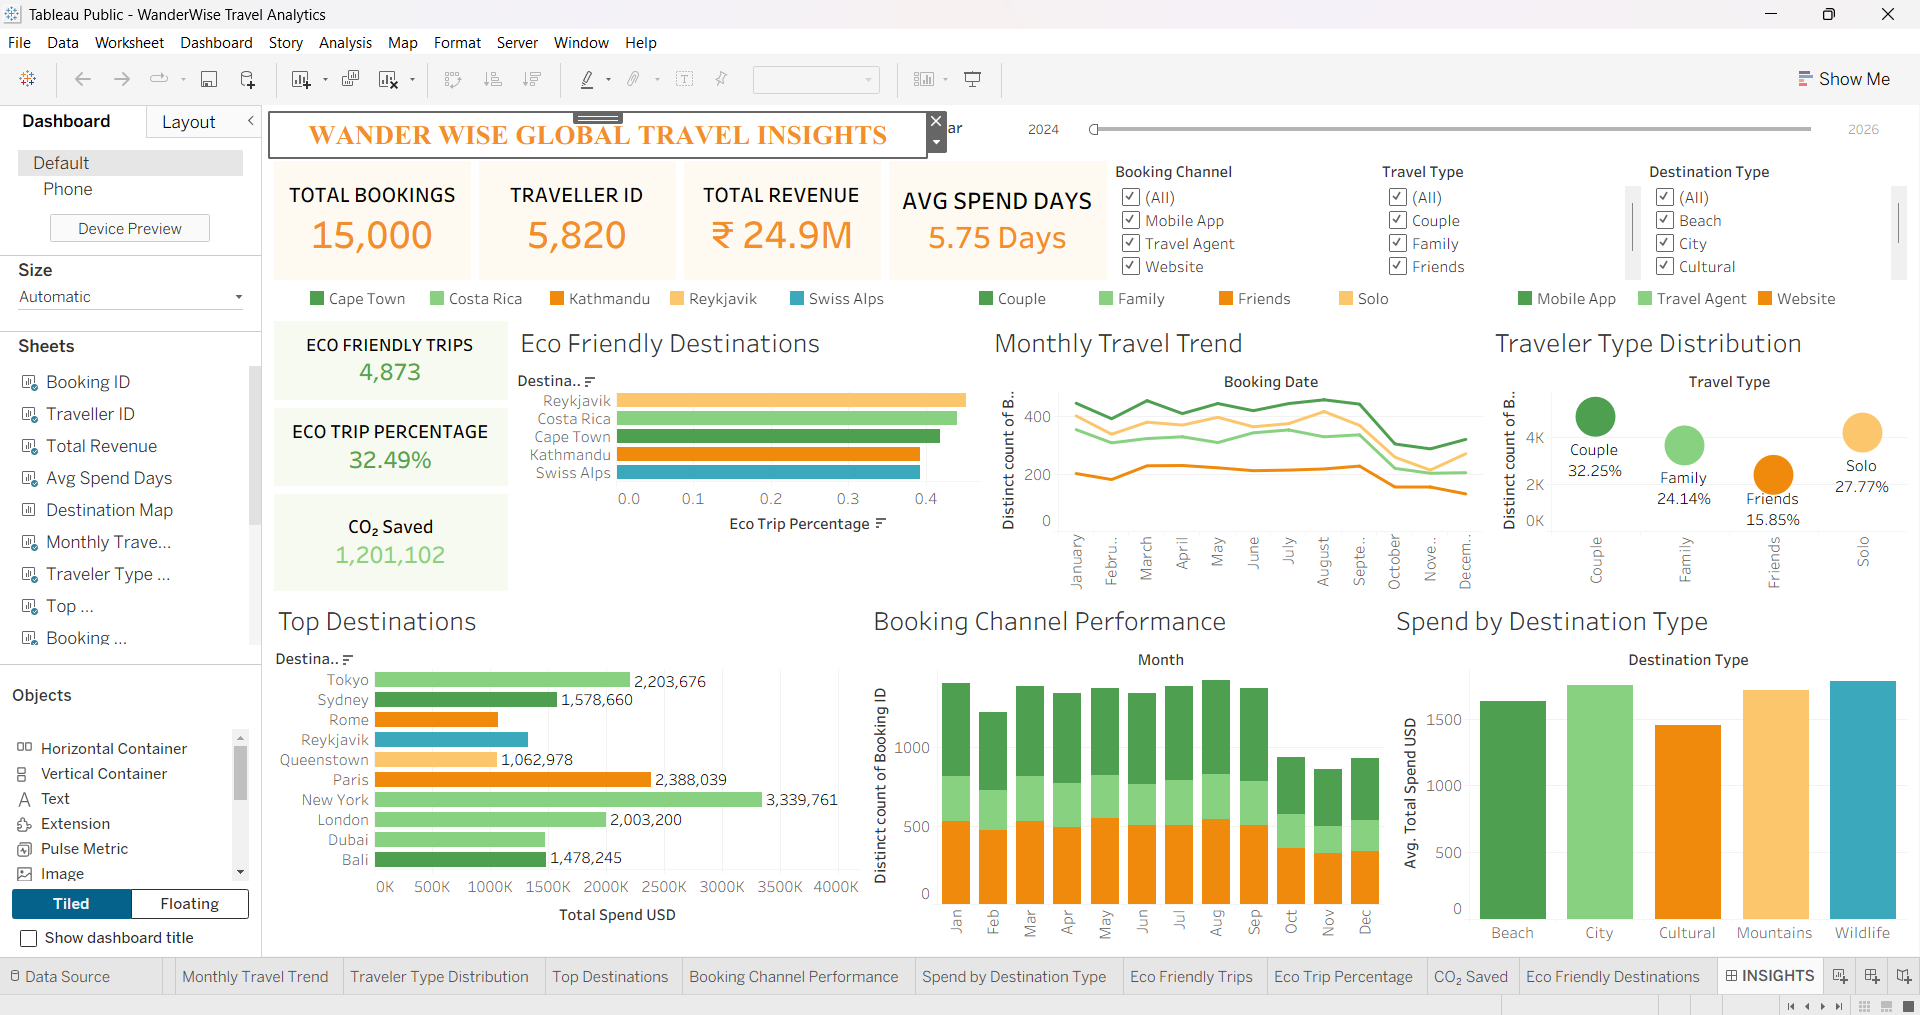

Layout of this report page (visuals, bound fields, positions):
{"tool":"tableau","page":{"name":"INSIGHTS","canvas":[1000,1000],"units":"permille","ordinal":0},"visuals":[{"type":"text","box":[4.9,9.4,395.9,51.7]},{"type":"filter","title":"Avg Spend Days","param":"[federated.04pvo371luxlef1gmajti12u7aaq].[none:Year:qk]","box":[400.9,9.4,594.2,51.7]},{"type":"worksheet","title":"Booking ID","mark":"Text","box":[4.9,61.1,123.7,149.2]},{"type":"worksheet","title":"Traveller ID","mark":"Text","box":[128.6,61.1,123.8,149.2]},{"type":"worksheet","title":"Total Revenue","mark":"Text","box":[252.4,61.1,123.8,149.2]},{"type":"worksheet","title":"Avg Spend Days","mark":"Text","box":[376.2,61.1,136.1,149.2]},{"type":"filter","title":"Avg Spend Days","param":"[federated.04pvo371luxlef1gmajti12u7aaq].[none:Booking_Channel:nk]","box":[512.3,61.1,161.3,149.2]},{"type":"filter","title":"Avg Spend Days","param":"[federated.04pvo371luxlef1gmajti12u7aaq].[none:Travel_Type:nk]","box":[673.6,61.1,160.7,149.2]},{"type":"filter","title":"Avg Spend Days","param":"[federated.04pvo371luxlef1gmajti12u7aaq].[none:Destination_Type:nk]","box":[834.4,61.1,160.7,149.2]},{"type":"legend","title":"Eco Friendly Destinations","param":"[federated.04pvo371luxlef1gmajti12u7aaq].[none:Destination:nk]","box":[24.6,210.3,403.9,38.8]},{"type":"legend","title":"Monthly Travel Trend","param":"[federated.04pvo371luxlef1gmajti12u7aaq].[none:Travel_Type:nk]","box":[428.6,210.3,325.1,38.8]},{"type":"legend","title":"Booking Channel Performance","param":"[federated.04pvo371luxlef1gmajti12u7aaq].[none:Booking_Channel:nk]","box":[753.7,210.3,241.4,38.8]},{"type":"worksheet","title":"Eco Friendly Trips","mark":"Text","box":[4.9,249.1,145.9,102.2]},{"type":"worksheet","title":"Eco Friendly Destinations","mark":"Automatic","rows":["Destination"],"cols":["Calculation_0961026413121537"],"box":[150.9,249.1,286.3,326.7]},{"type":"worksheet","title":"Monthly Travel Trend","mark":"Automatic","rows":["Booking_ID"],"cols":["Booking_Date"],"box":[437.2,249.1,302.3,326.7]},{"type":"worksheet","title":"Traveler Type Distribution","mark":"Pie","rows":["Booking_ID"],"cols":["Travel_Type"],"box":[739.5,249.1,255.5,326.7]},{"type":"worksheet","title":"Eco Trip Percentage","mark":"Text","box":[4.9,351.4,145.9,101.6]},{"type":"worksheet","title":"CO₂ Saved","mark":"Text","box":[4.9,453,145.9,122.8]},{"type":"worksheet","title":"Top Destinations","mark":"Automatic","rows":["Destination"],"cols":["Total_Spend_USD"],"box":[4.9,575.8,358.9,414.8]},{"type":"worksheet","title":"Booking Channel Performance","mark":"Bar","rows":["Booking_ID"],"cols":["Month"],"box":[363.8,575.8,315.6,414.8]},{"type":"worksheet","title":"Spend by Destination Type","mark":"Automatic","rows":["Total_Spend_USD"],"cols":["Destination_Type"],"box":[679.4,575.8,315.7,414.8]}]}

Visuals, with their boxes on the dashboard's canvas, which has no fixed pixel size, in thousandths of its width and height (x1, y1, x2, y2). These are canvas units, not pixel positions in the 1920x1015 screenshot, which may show the page scaled, cropped or inside an application window:
text: [x1=5, y1=9, x2=401, y2=61]
"Avg Spend Days" filter: [x1=401, y1=9, x2=995, y2=61]
"Booking ID" worksheet (Text marks): [x1=5, y1=61, x2=129, y2=210]
"Traveller ID" worksheet (Text marks): [x1=129, y1=61, x2=252, y2=210]
"Total Revenue" worksheet (Text marks): [x1=252, y1=61, x2=376, y2=210]
"Avg Spend Days" worksheet (Text marks): [x1=376, y1=61, x2=512, y2=210]
"Avg Spend Days" filter: [x1=512, y1=61, x2=674, y2=210]
"Avg Spend Days" filter: [x1=674, y1=61, x2=834, y2=210]
"Avg Spend Days" filter: [x1=834, y1=61, x2=995, y2=210]
"Eco Friendly Destinations" legend: [x1=25, y1=210, x2=428, y2=249]
"Monthly Travel Trend" legend: [x1=429, y1=210, x2=754, y2=249]
"Booking Channel Performance" legend: [x1=754, y1=210, x2=995, y2=249]
"Eco Friendly Trips" worksheet (Text marks): [x1=5, y1=249, x2=151, y2=351]
"Eco Friendly Destinations" worksheet: [x1=151, y1=249, x2=437, y2=576]
"Monthly Travel Trend" worksheet: [x1=437, y1=249, x2=740, y2=576]
"Traveler Type Distribution" worksheet (Pie marks): [x1=740, y1=249, x2=995, y2=576]
"Eco Trip Percentage" worksheet (Text marks): [x1=5, y1=351, x2=151, y2=453]
"CO₂ Saved" worksheet (Text marks): [x1=5, y1=453, x2=151, y2=576]
"Top Destinations" worksheet: [x1=5, y1=576, x2=364, y2=991]
"Booking Channel Performance" worksheet (Bar marks): [x1=364, y1=576, x2=679, y2=991]
"Spend by Destination Type" worksheet: [x1=679, y1=576, x2=995, y2=991]
